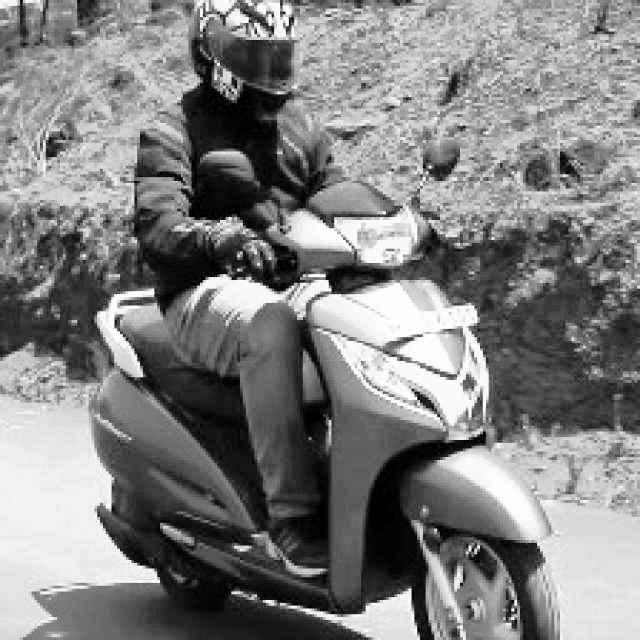Bike: (54, 173, 578, 639)
